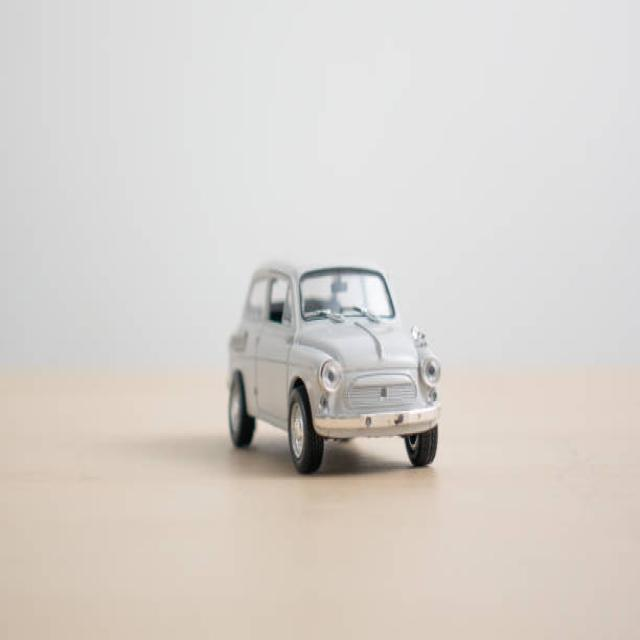Car: (226, 262, 441, 474)
